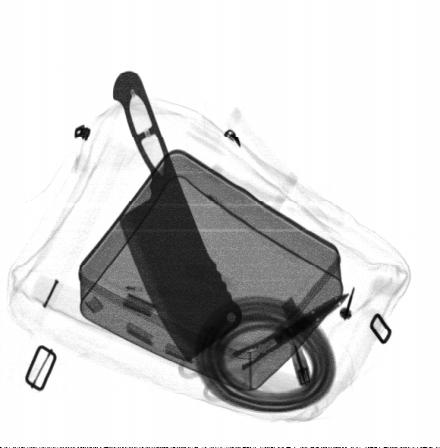Knife: (112, 68, 243, 364)
Scissors: (178, 294, 350, 401)
